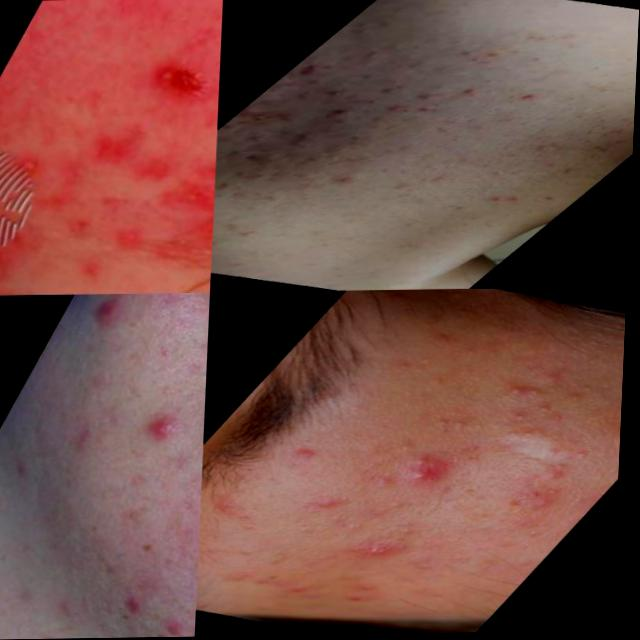8: (104, 396, 202, 459), (59, 293, 147, 347), (386, 451, 469, 493), (352, 535, 415, 566), (279, 438, 338, 463), (298, 102, 362, 123), (301, 490, 352, 516), (441, 83, 489, 99), (375, 102, 413, 119), (535, 497, 562, 513)
9: (492, 378, 547, 405)
blackheads: (146, 168, 217, 251), (80, 110, 157, 175), (130, 50, 216, 104), (491, 420, 581, 459), (46, 204, 107, 246), (231, 102, 298, 127), (189, 141, 218, 191), (229, 147, 278, 169)
dark spot: (233, 508, 273, 526), (468, 190, 515, 205), (309, 551, 346, 568), (549, 93, 584, 109), (561, 111, 599, 124), (490, 149, 525, 162)
